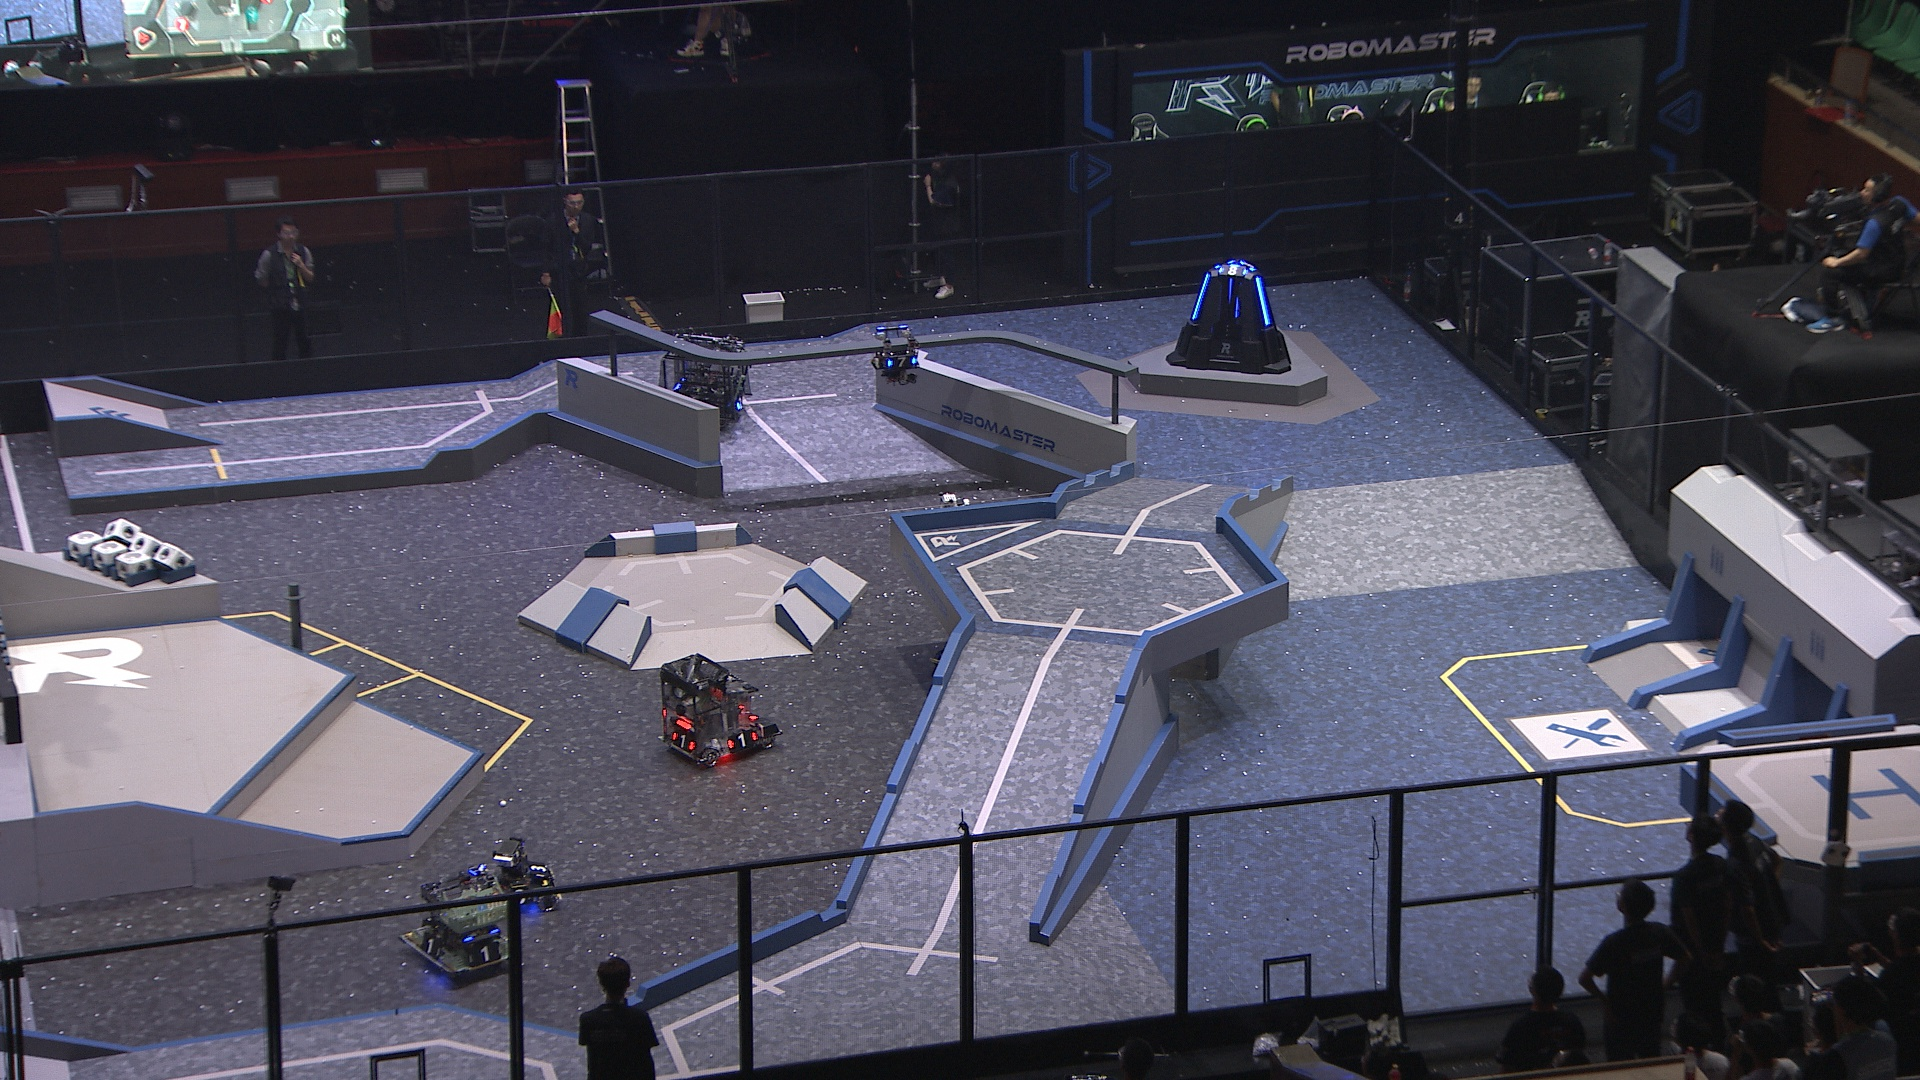armor: (1188, 272, 1212, 322), (465, 940, 505, 967), (1254, 273, 1273, 328), (727, 728, 760, 750), (669, 731, 698, 752), (885, 353, 920, 371), (419, 932, 443, 957), (1218, 262, 1249, 278), (531, 860, 550, 880), (1225, 277, 1237, 305), (1232, 295, 1244, 322), (735, 396, 746, 413)
base: (1163, 262, 1295, 375)
car: (659, 654, 783, 769), (396, 870, 518, 981), (657, 332, 754, 433), (468, 839, 564, 916)
watcher: (872, 324, 923, 389)
